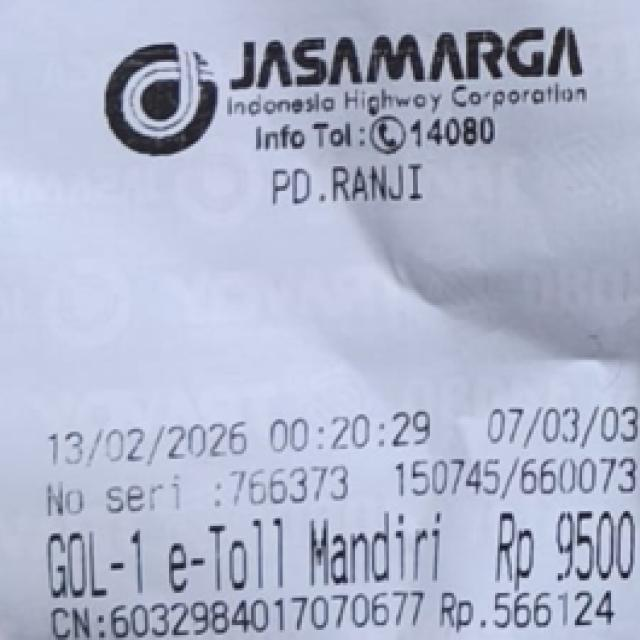date: (28, 410, 432, 463)
store: (232, 35, 597, 107)
total: (479, 500, 640, 586)
